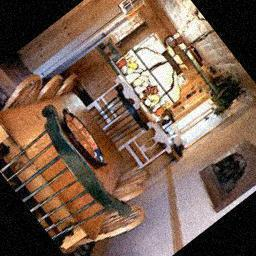Electrodomestico: (39, 8, 132, 85)
